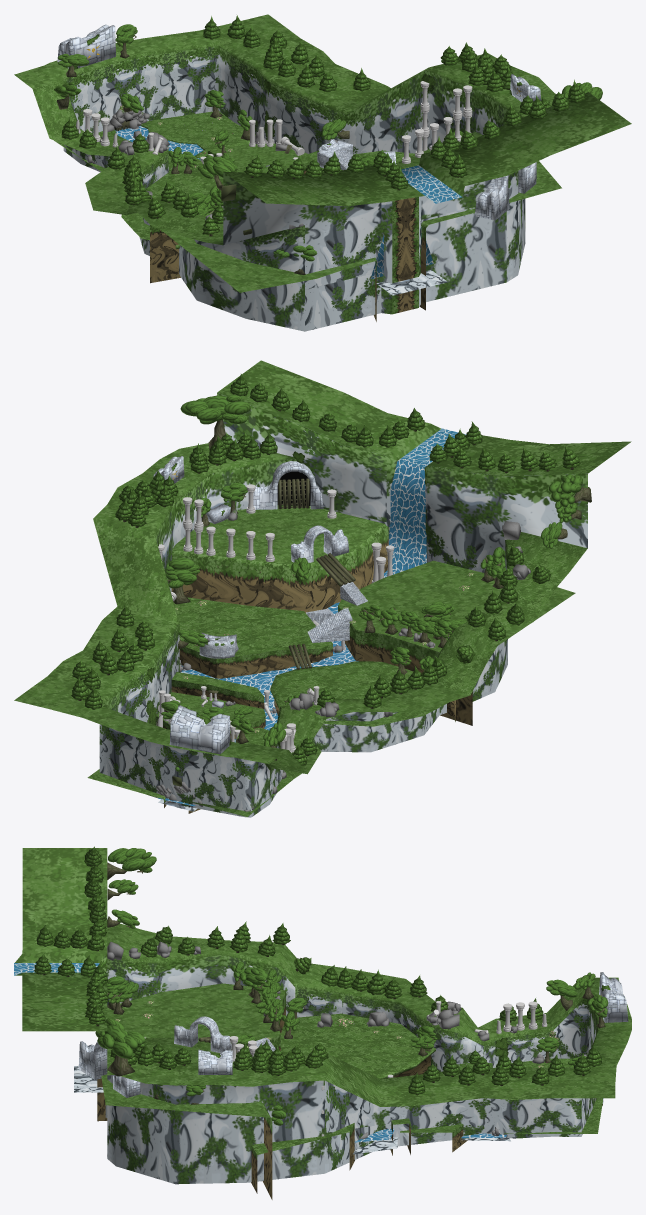
The model's file is Hondonada_ModeloBase.fbx.
The picture shows the model from 3 angles, top to bottom: view 1: azimuth 30°, elevation 25°; view 2: azimuth 150°, elevation 25°; view 3: azimuth 270°, elevation 25°; orthographic projection. The views are drawn at different scales.
Parts seen in each view (by area): view 1: Paredes_Hondonada, ZONA5_1, ZONA1_1, Río, ZONA3_1, ZONA6_1, Muro_02_Grande.001, MuroPINTADO_01_Grande, ZONA2_1, Roble_V1.012, SueloRio, MuroPINTADO_01 (+1 smaller); view 2: Paredes_Hondonada, ZONA6_1, ZONA5_1, ZONA4_1, Río, ZONA3_1, MuroPINTADO_01_Grande, Muro_02_Grande (×2), Zona2_2, Roble_V1.011, Muro_02_Grande.001, ZONA2_1 (+3 smaller); view 3: Paredes_Hondonada, ZONA5_1, ZONA3_1, ZONA6_1, Roble_V1.011, Muro_02_Grande.001, ZONA4_1, Muro_02_Grande, SueloRio, Roble_V1.012, MuroPINTADO_01_Grande, Río (+5 smaller).
Part boxes in pixels (box(x1,y1,x2,y2)): Paredes_Hondonada: box(14, 14, 631, 331); ZONA5_1: box(150, 210, 376, 321); ZONA1_1: box(140, 111, 255, 158); Río: box(115, 125, 462, 279); ZONA3_1: box(121, 170, 223, 275); ZONA6_1: box(396, 132, 561, 310); Muro_02_Grande.001: box(474, 162, 536, 220); MuroPINTADO_01_Grande: box(57, 24, 115, 69); ZONA2_1: box(210, 143, 307, 172); Roble_V1.012: box(197, 155, 237, 201); SueloRio: box(376, 270, 447, 295); MuroPINTADO_01: box(509, 74, 541, 101); Paredes_Hondonada: box(14, 360, 631, 817); ZONA6_1: box(171, 505, 388, 612); ZONA5_1: box(338, 560, 575, 725); ZONA4_1: box(174, 597, 332, 678); Río: box(158, 428, 466, 806); ZONA3_1: box(270, 661, 455, 726); MuroPINTADO_01_Grande: box(169, 705, 231, 754); Muro_02_Grande (×2): box(199, 525, 348, 658); Zona2_2: box(171, 672, 264, 709); Roble_V1.011: box(180, 395, 250, 449); Muro_02_Grande.001: box(253, 461, 323, 509); ZONA2_1: box(156, 692, 265, 738); Paredes_Hondonada: box(15, 848, 631, 1184); ZONA5_1: box(107, 983, 285, 1054); ZONA3_1: box(281, 1013, 435, 1078); ZONA6_1: box(97, 1037, 272, 1199); Roble_V1.011: box(95, 1018, 145, 1076); Muro_02_Grande.001: box(78, 1041, 140, 1097); ZONA4_1: box(251, 1123, 354, 1193); Muro_02_Grande: box(174, 1016, 231, 1053); SueloRio: box(74, 1066, 603, 1154); Roble_V1.012: box(107, 848, 156, 879); MuroPINTADO_01_Grande: box(599, 972, 628, 1022); Río: box(14, 963, 506, 1142).
Size of the model in its own units: 9262 by 4507 by 12753.
